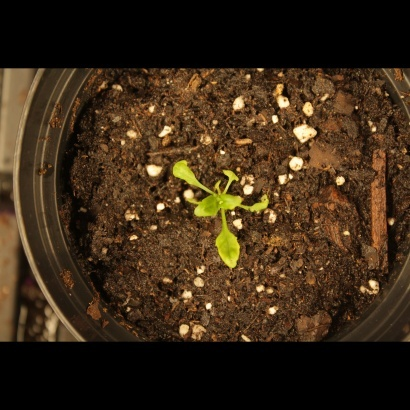leaf: (212, 225, 249, 275), (168, 158, 203, 193), (191, 193, 221, 221), (248, 191, 276, 219), (218, 161, 242, 187), (221, 192, 246, 215)
